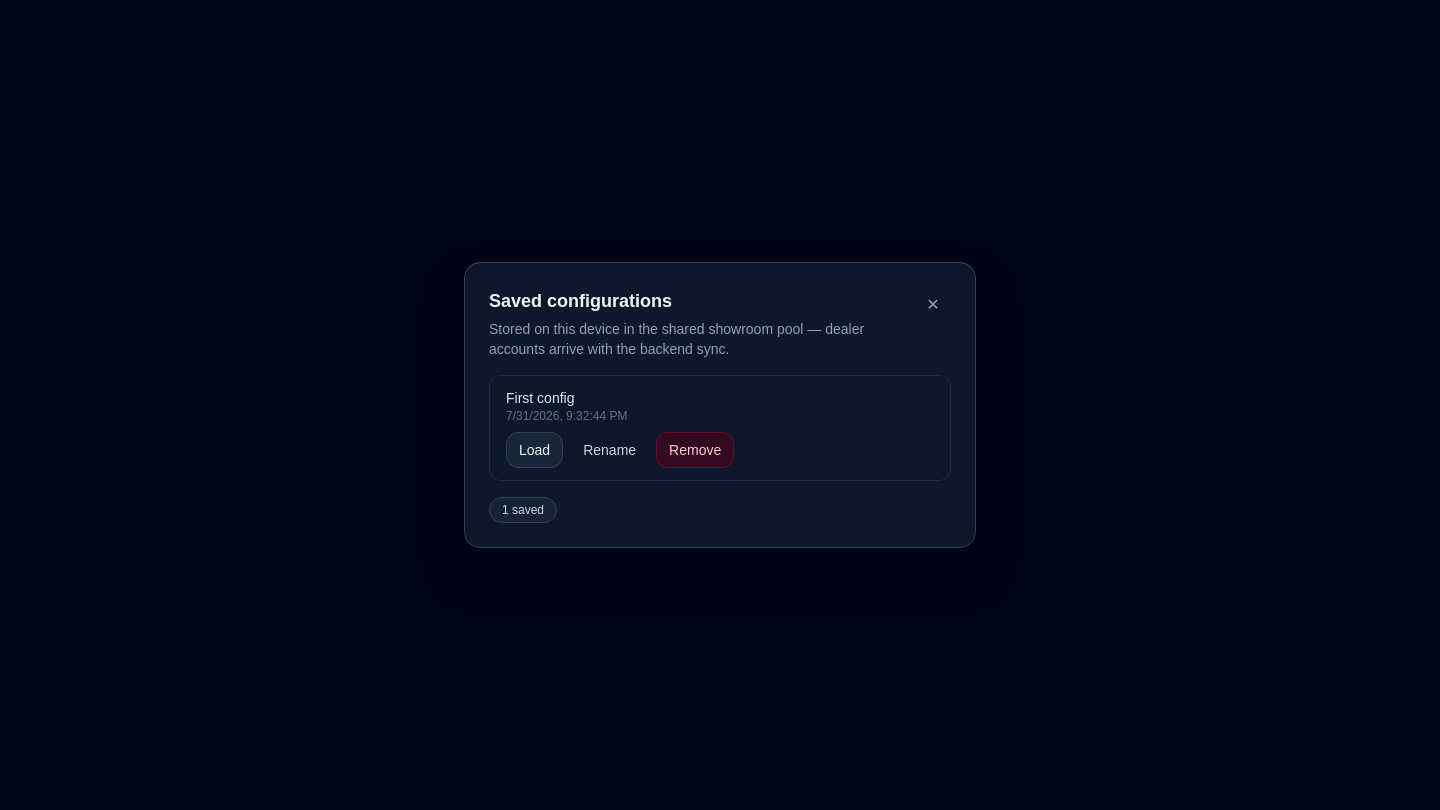
SavedConfigurationsDialog › removes entries and reports the mutation
Click the button with aria-label "Remove First config": (695, 450) [656, 432, 734, 468]
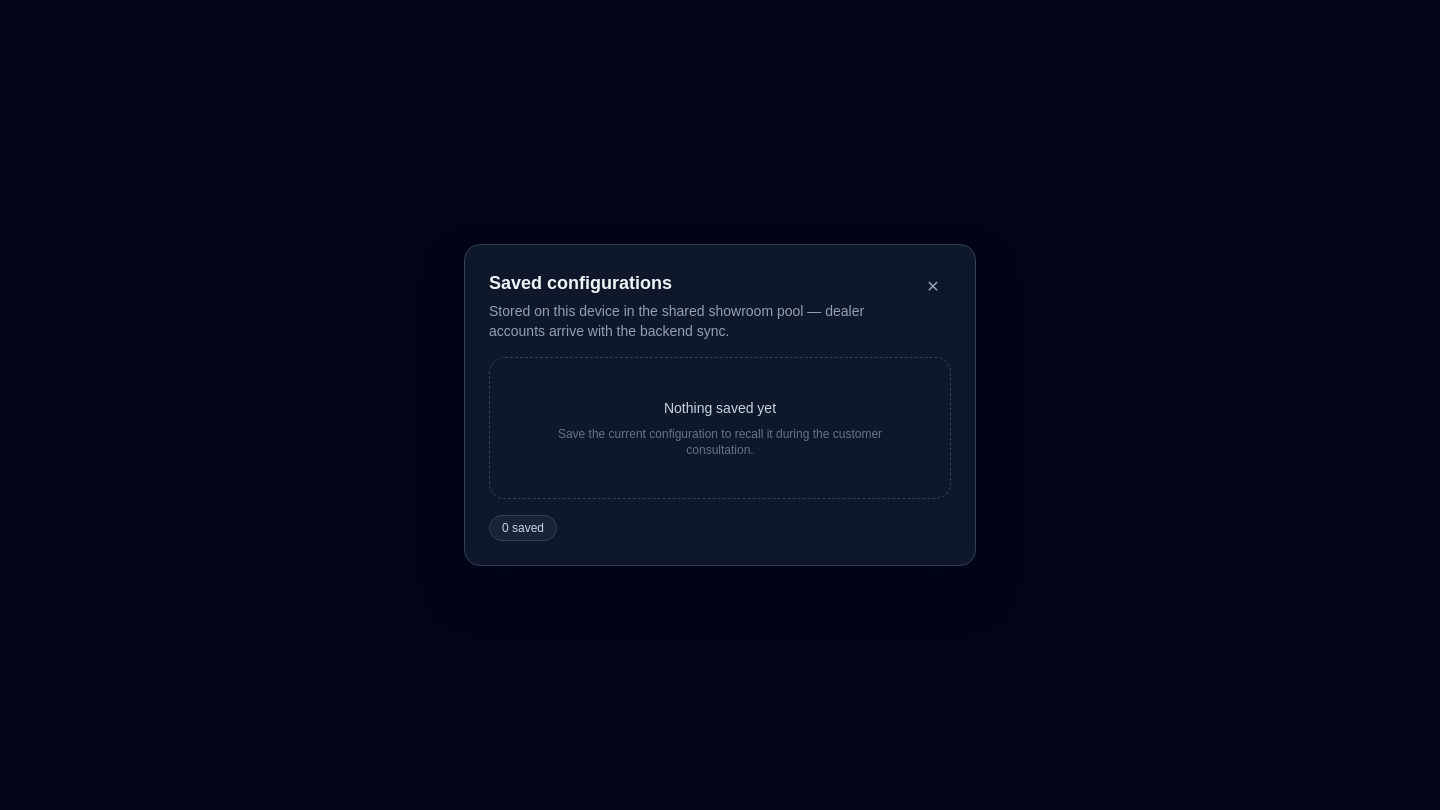
Check: the text "Nothing saved yet" is shown, box [664, 398, 776, 418]
